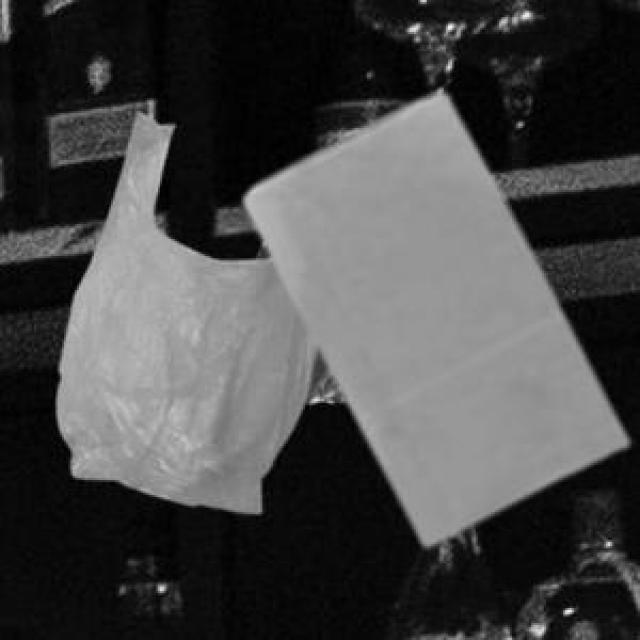paper: (241, 90, 623, 542)
